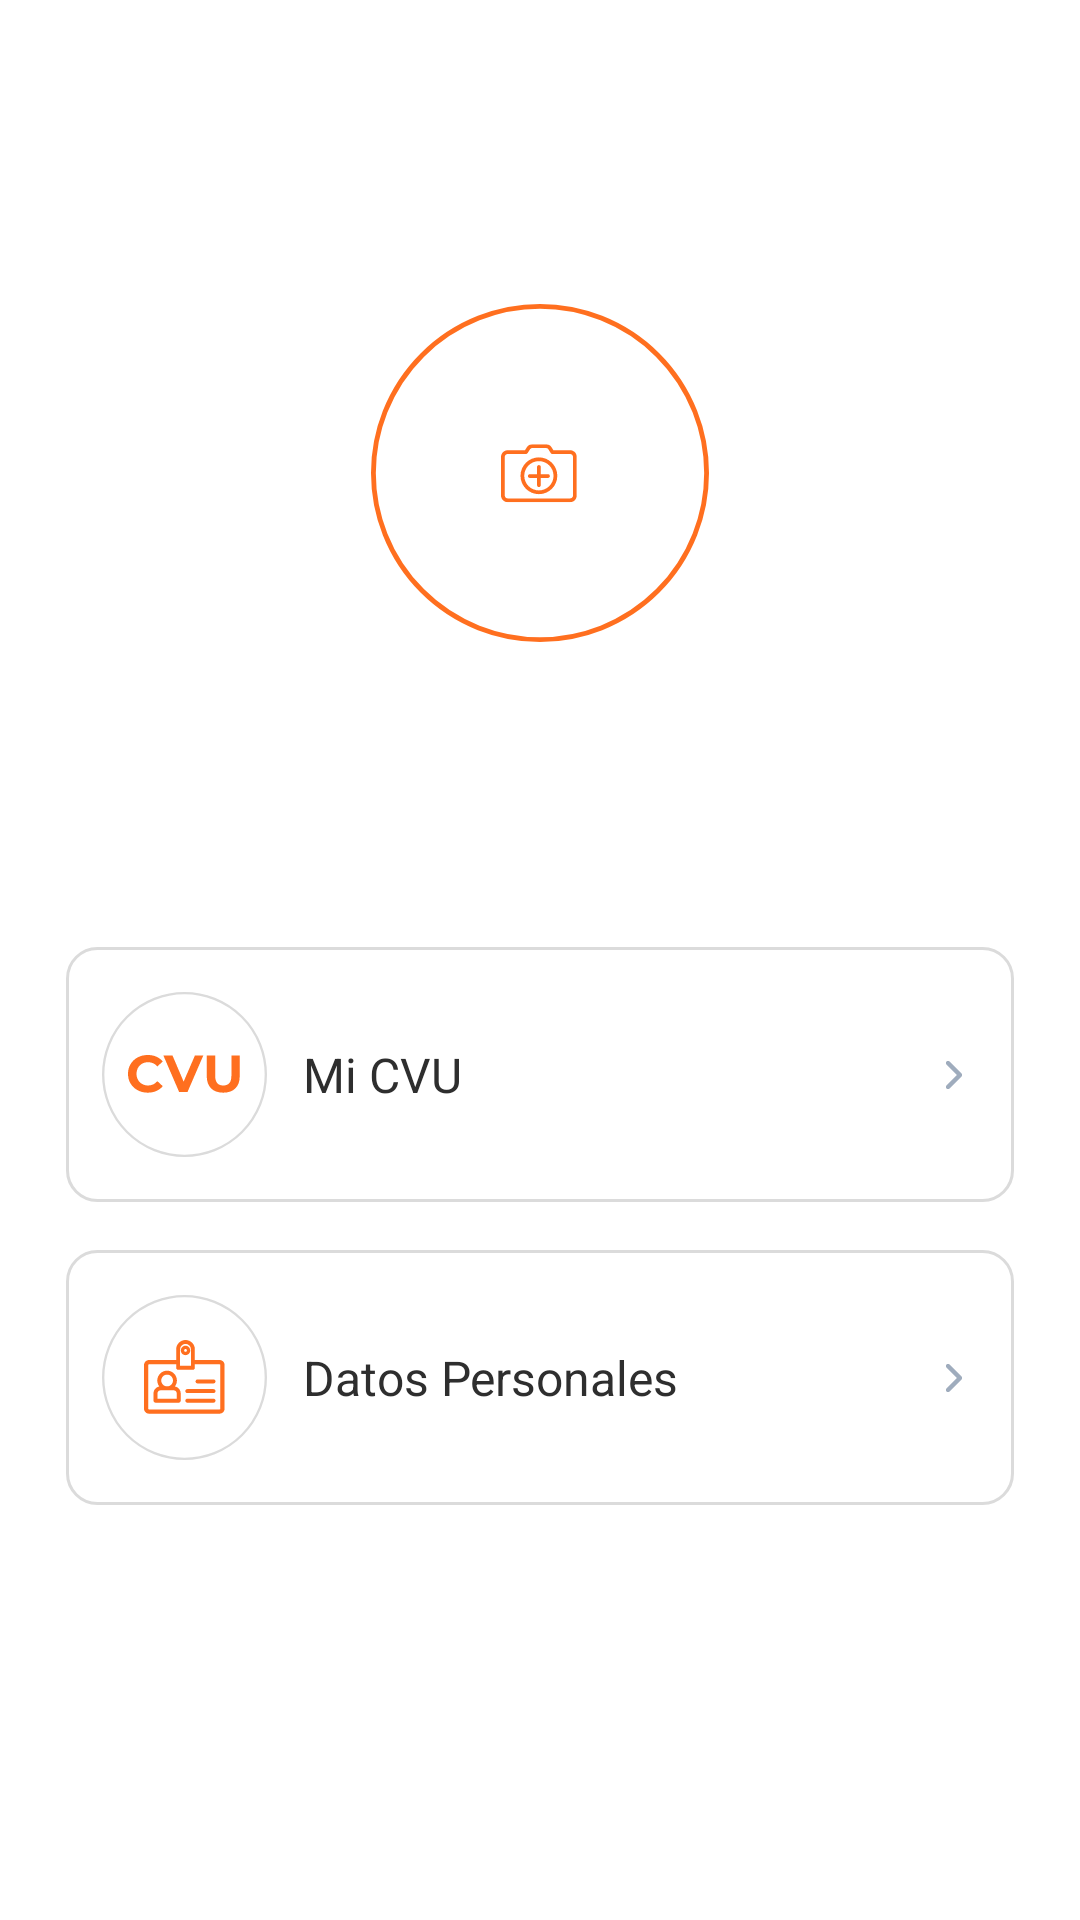

Screen size 1080px×1920px. Icon name, then its box in pixels as (x1, y1, x2, y2):
camera: (371, 304, 709, 642)
personal data: (102, 1295, 267, 1460)
